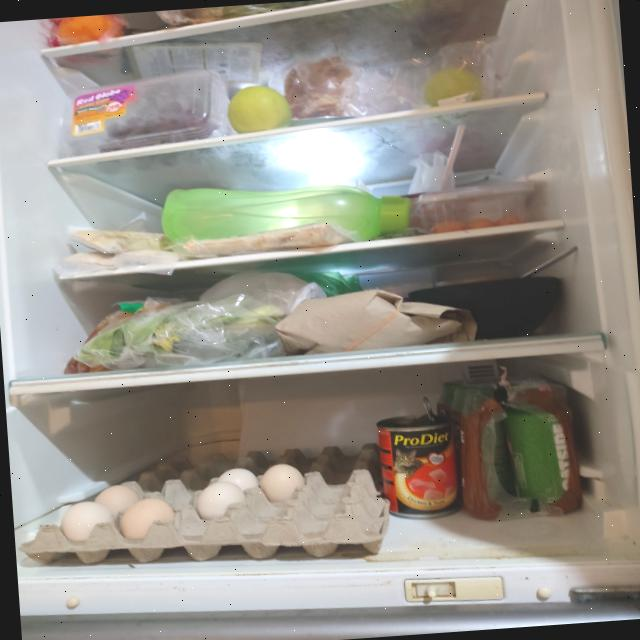apple: (226, 82, 292, 134), (422, 62, 486, 106)
egg: (16, 441, 394, 578)
leafy_greens: (81, 294, 288, 368)
orange: (56, 13, 125, 48)
tempeh: (182, 220, 356, 256), (62, 223, 175, 257)
